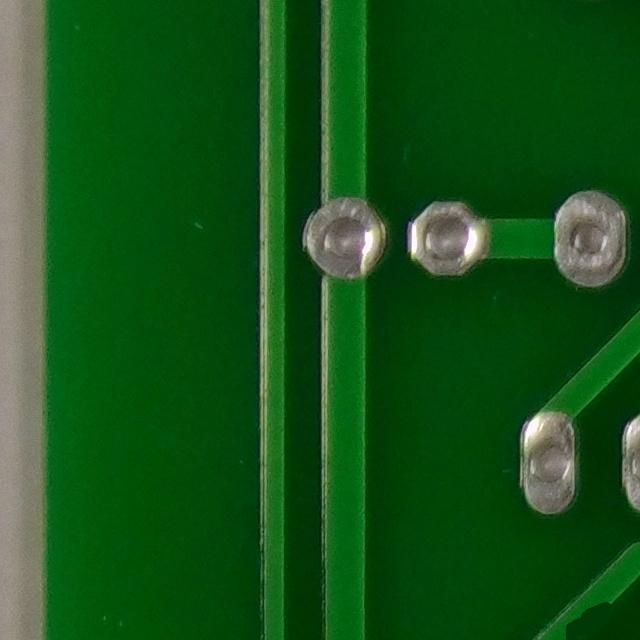mouse_bite: (535, 587, 622, 640)
